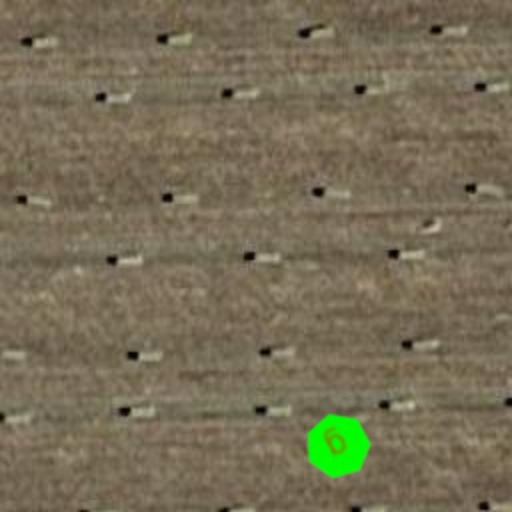heptagon: (292, 400, 384, 492)
